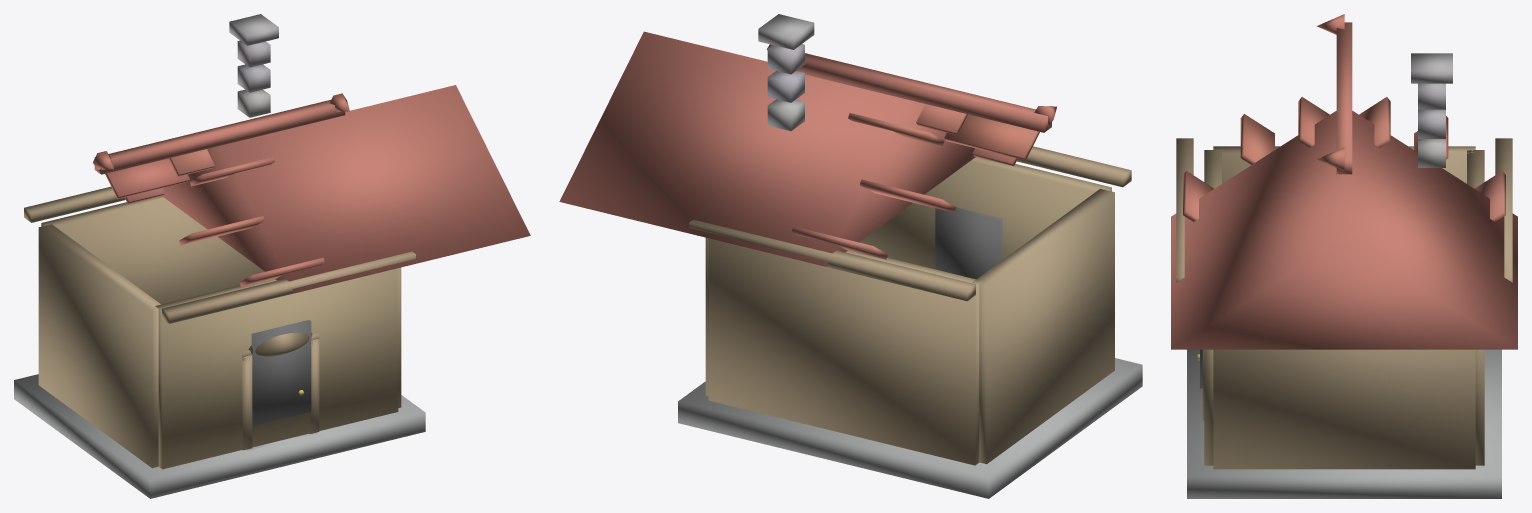
File: building_coop.glb
3 renders of one model, left to right at view 1: azimuth 30°, elevation 25°; view 2: azimuth 150°, elevation 25°; view 3: azimuth 270°, elevation 25°, orthographic. The views are drawn at different scales.
Visible parts, largest first — view 1: roof_body, front, side_-1, back, foundation, front_open, ridge, eave_1, tile_1_1, eave_-1, chim_cap, door_jamb_-1 (+10 smaller); view 2: roof_body, back, side_-1, foundation, front, ridge, eave_-1, front_open, tile_-1_1, eave_1, chim_cap, tile_-1_2 (+7 smaller); view 3: roof_body, side_1, foundation, ridge, front, back, eave_-1, eave_1, side_-1, chim_cap, tile_-1_1, tile_-1_2 (+6 smaller).
Part boxes in pixels (x1,y1,x2,y2): roof_body: (162,85,530,293); front: (155,268,398,469); side_-1: (38,224,160,468); back: (41,196,264,304); foundation: (14,374,425,498); front_open: (251,320,311,425); ridge: (94,100,345,174); eave_1: (162,251,415,323); tile_1_1: (105,158,189,199); eave_-1: (24,186,125,222); chim_cap: (229,14,278,45); door_jamb_-1: (242,355,252,450); roof_body: (559,31,975,266); back: (708,238,983,465); side_-1: (972,188,1114,464); foundation: (678,358,1142,498); front: (859,157,1111,269); ridge: (796,53,1051,132); eave_-1: (689,219,975,301); front_open: (935,207,1002,279); tile_-1_1: (944,114,1039,160); eave_1: (1017,146,1131,187); chim_cap: (758,14,814,49); tile_-1_2: (916,103,967,135); roof_body: (1171,111,1517,349); side_1: (1213,349,1475,469); foundation: (1187,349,1501,498); ridge: (1336,22,1352,174); front: (1204,150,1221,465); back: (1467,150,1484,465); eave_-1: (1495,138,1512,282); eave_1: (1176,138,1193,282); side_-1: (1213,146,1475,183); chim_cap: (1411,53,1452,83); tile_-1_1: (1240,114,1274,164); tile_-1_2: (1298,97,1329,147).
Bounding box in the file's own units: 2.85 × 2.52 × 1.98.
